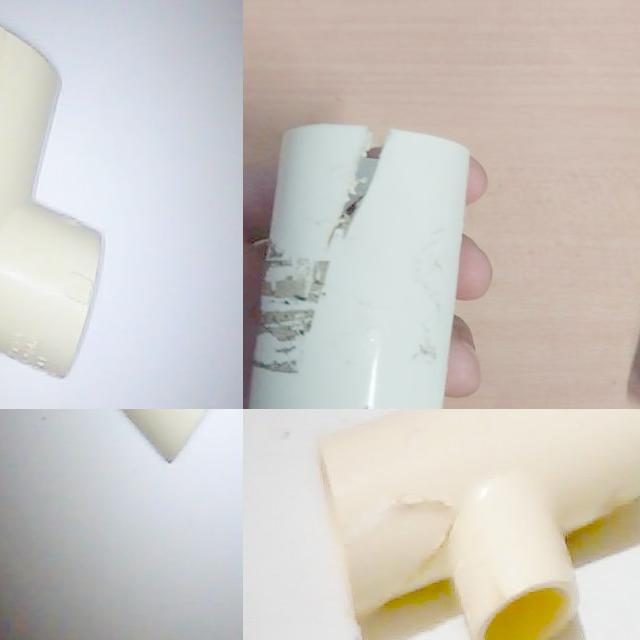Defective: (353, 492, 449, 596), (334, 123, 414, 240), (311, 379, 371, 409)
T Joint: (314, 409, 640, 640), (0, 25, 102, 379)
